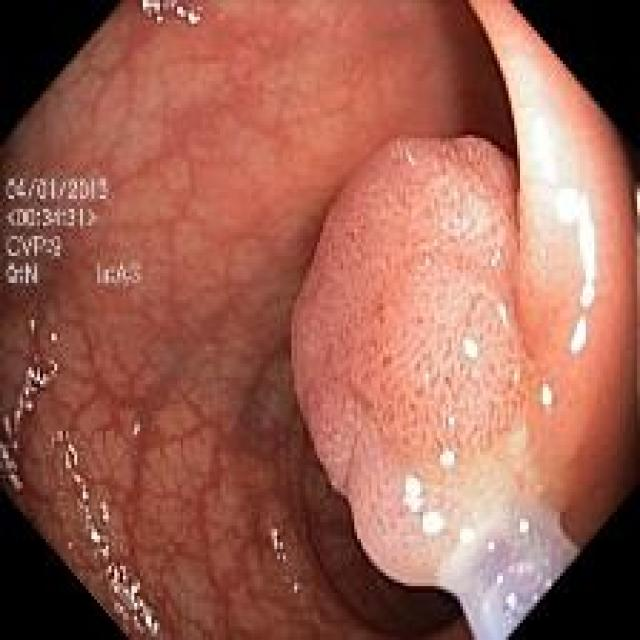Polyps: (291, 137, 576, 637)
